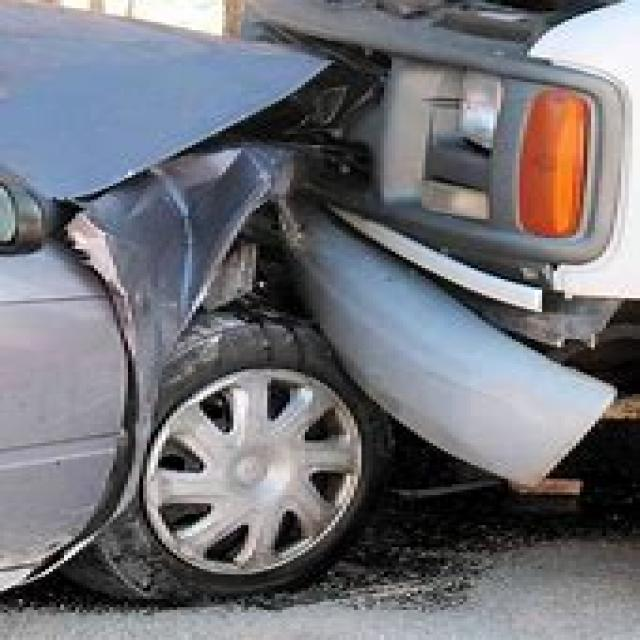Accident: (38, 50, 640, 528)
